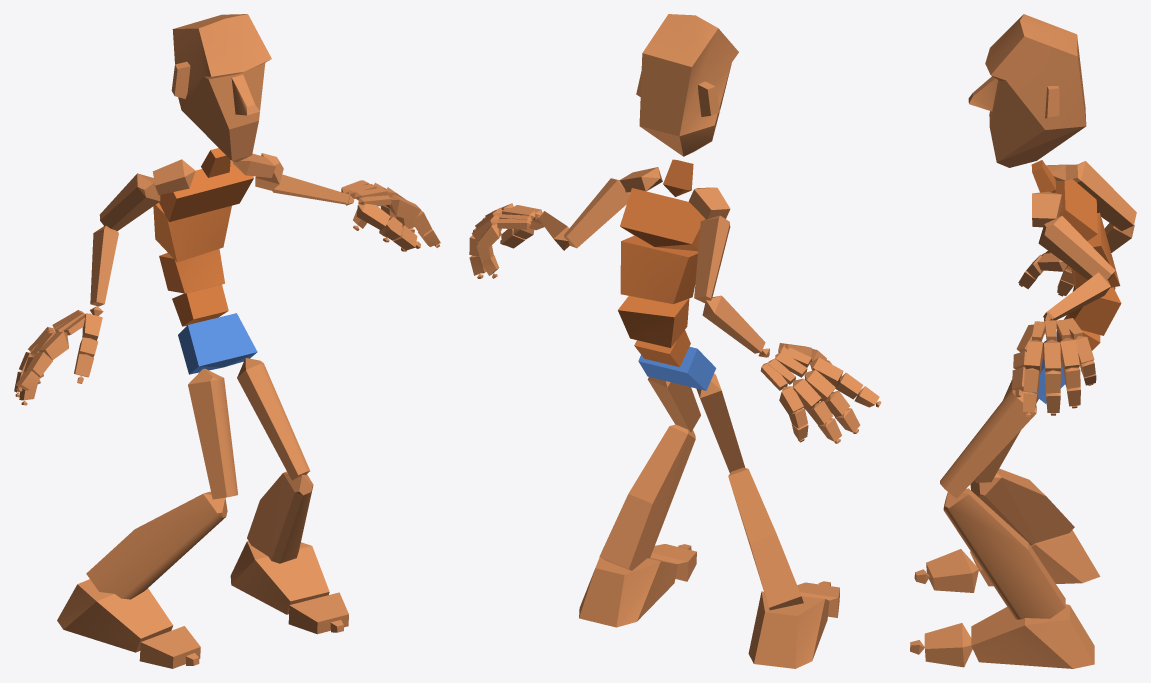
The picture shows the model from 3 angles, left to right: view 1: azimuth 30°, elevation 25°; view 2: azimuth 150°, elevation 25°; view 3: azimuth 270°, elevation 25°; orthographic projection.
Parts seen in each view (by area): view 1: BOPED_Head, BOPED_R_leg, BOPED_R_foot, BOPED_R_foot01, BOPED_R_legup, BOPED_L_leg, BOPED_L_legup, Bone01, Bone04, Bone05, Bone03, BOPED_R_arm_upper (+8 smaller); view 2: BOPED_Head, BOPED_L_leg, BOPED_R_foot01, BOPED_R_foot, BOPED_R_leg, Bone04, Bone05, Bone03, BOPED_R_arm_upper, BOPED_L_arm_upper, BOPED_R_legup, Bone01 (+8 smaller); view 3: BOPED_Head, BOPED_L_leg, BOPED_R_foot01, BOPED_R_leg, BOPED_L_legup, BOPED_R_foot, BOPED_L_arm_upper, BOPED_R_arm_upper, BOPED_R_foot_toe01, Bone05, BOPED_R_foot_toe04, Bone03 (+15 smaller).
Part boxes in pixels (x1,y1,x2,y2): BOPED_Head: [171, 14, 271, 162]; BOPED_R_leg: [86, 491, 227, 599]; BOPED_R_foot: [57, 579, 173, 652]; BOPED_R_foot01: [230, 541, 329, 614]; BOPED_R_legup: [188, 368, 237, 499]; BOPED_L_leg: [247, 471, 313, 563]; BOPED_L_legup: [237, 358, 309, 480]; Bone01: [178, 313, 257, 374]; Bone04: [153, 202, 231, 262]; Bone05: [159, 161, 253, 221]; Bone03: [159, 249, 224, 293]; BOPED_R_arm_upper: [99, 173, 160, 231]; BOPED_Head: [636, 14, 738, 156]; BOPED_L_leg: [599, 424, 695, 570]; BOPED_R_foot01: [579, 557, 677, 627]; BOPED_R_foot: [748, 591, 829, 668]; BOPED_R_leg: [728, 467, 803, 610]; Bone04: [620, 236, 698, 304]; Bone05: [620, 188, 705, 251]; Bone03: [618, 296, 689, 347]; BOPED_R_arm_upper: [694, 215, 730, 302]; BOPED_L_arm_upper: [564, 178, 630, 248]; BOPED_R_legup: [696, 373, 745, 472]; Bone01: [638, 346, 716, 390]; BOPED_Head: [968, 14, 1086, 167]; BOPED_L_leg: [943, 488, 1065, 619]; BOPED_R_foot01: [971, 604, 1094, 668]; BOPED_R_leg: [970, 468, 1074, 545]; BOPED_L_legup: [940, 389, 1036, 498]; BOPED_R_foot: [970, 530, 1100, 586]; BOPED_L_arm_upper: [1038, 216, 1115, 280]; BOPED_R_arm_upper: [1073, 161, 1136, 231]; BOPED_R_foot_toe01: [926, 549, 978, 592]; Bone05: [1054, 179, 1097, 241]; BOPED_R_foot_toe04: [924, 623, 972, 667]; Bone03: [1069, 284, 1121, 335].
Bounding box in the file's own units: 130 × 178 × 60.61.
